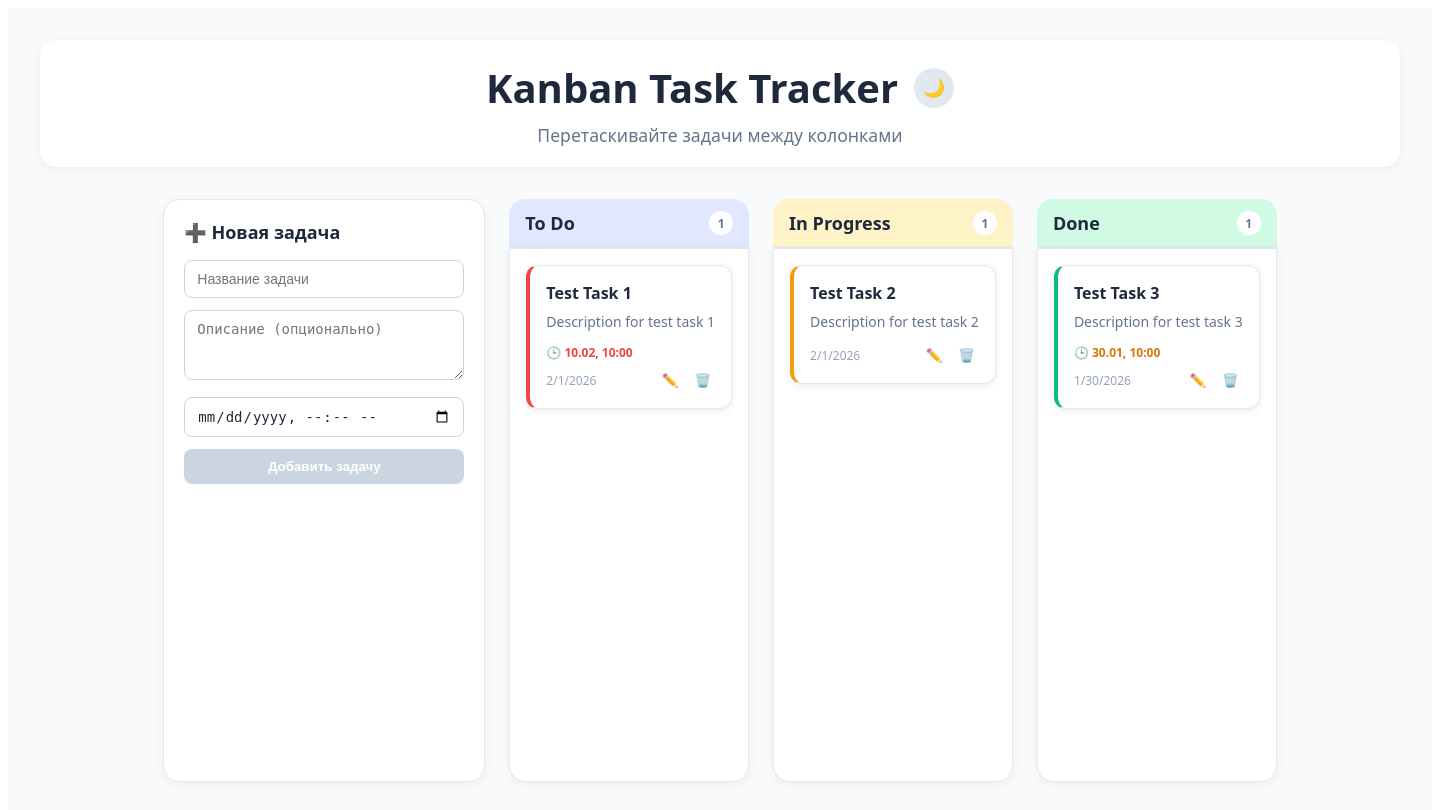
Test case: KanbanBoard › updates task when save button is clicked
expect the element with test id "task-card-1" is shown: met, box [526,265,732,409]
Click the button with test id "task-edit-button-1".
click(670, 380)  # box [658,369,682,392]
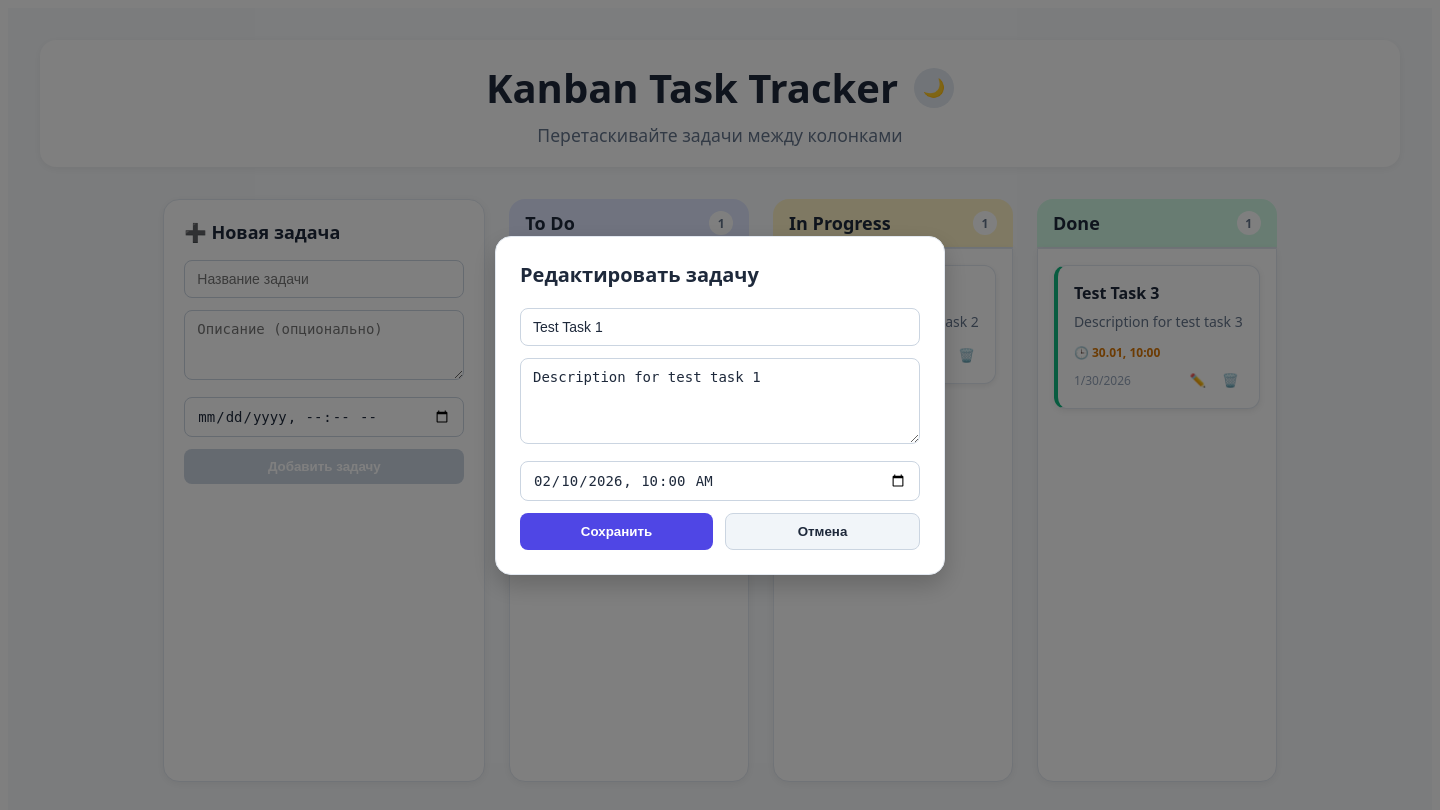
expect the dialog with test id "edit-task-modal" is shown: met
Replace the text in the field with test id "edit-task-title-input" with "Updated Task" at (720, 326), box [520,308,920,346]
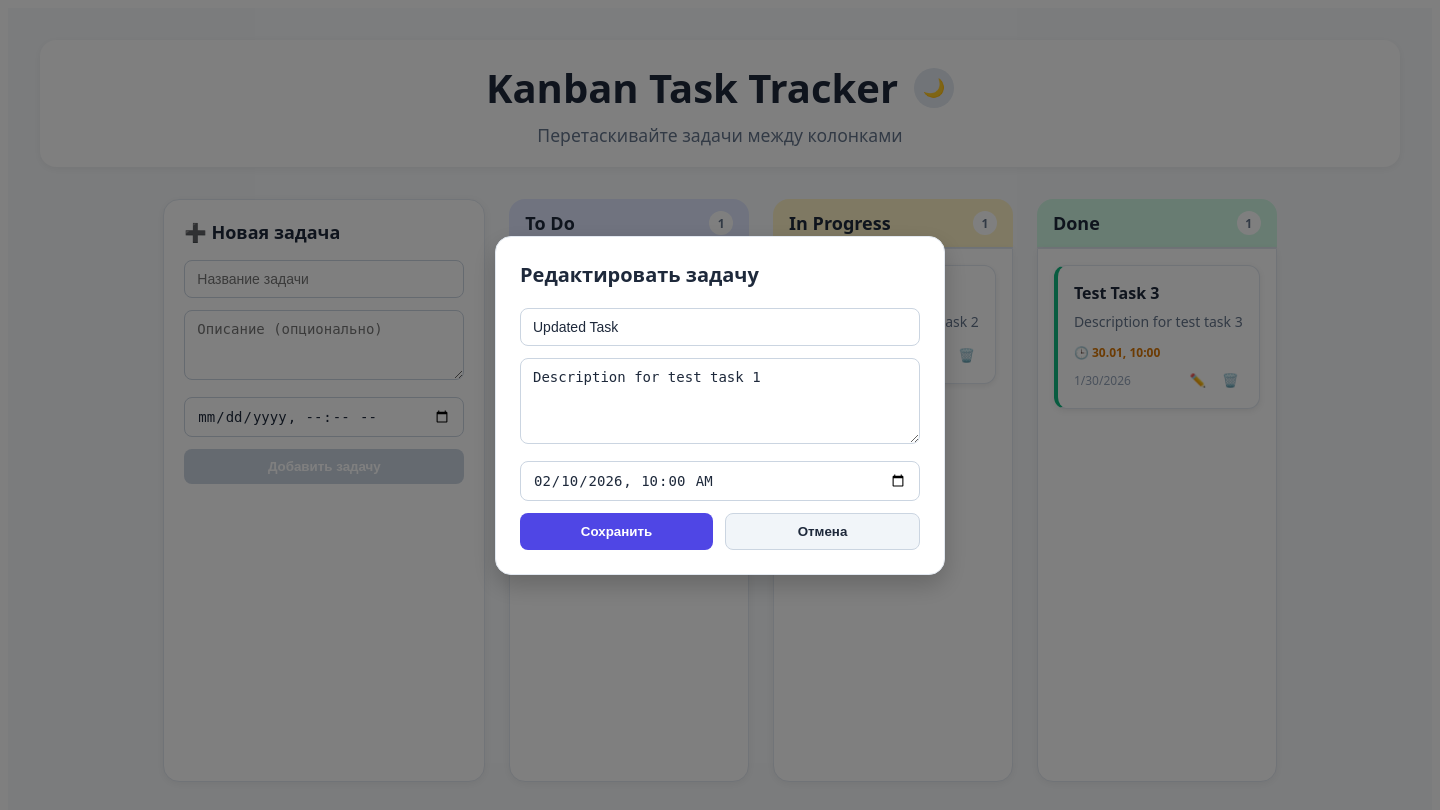
Click the button with test id "save-task-button".
click(616, 531)  # box [520,512,713,550]
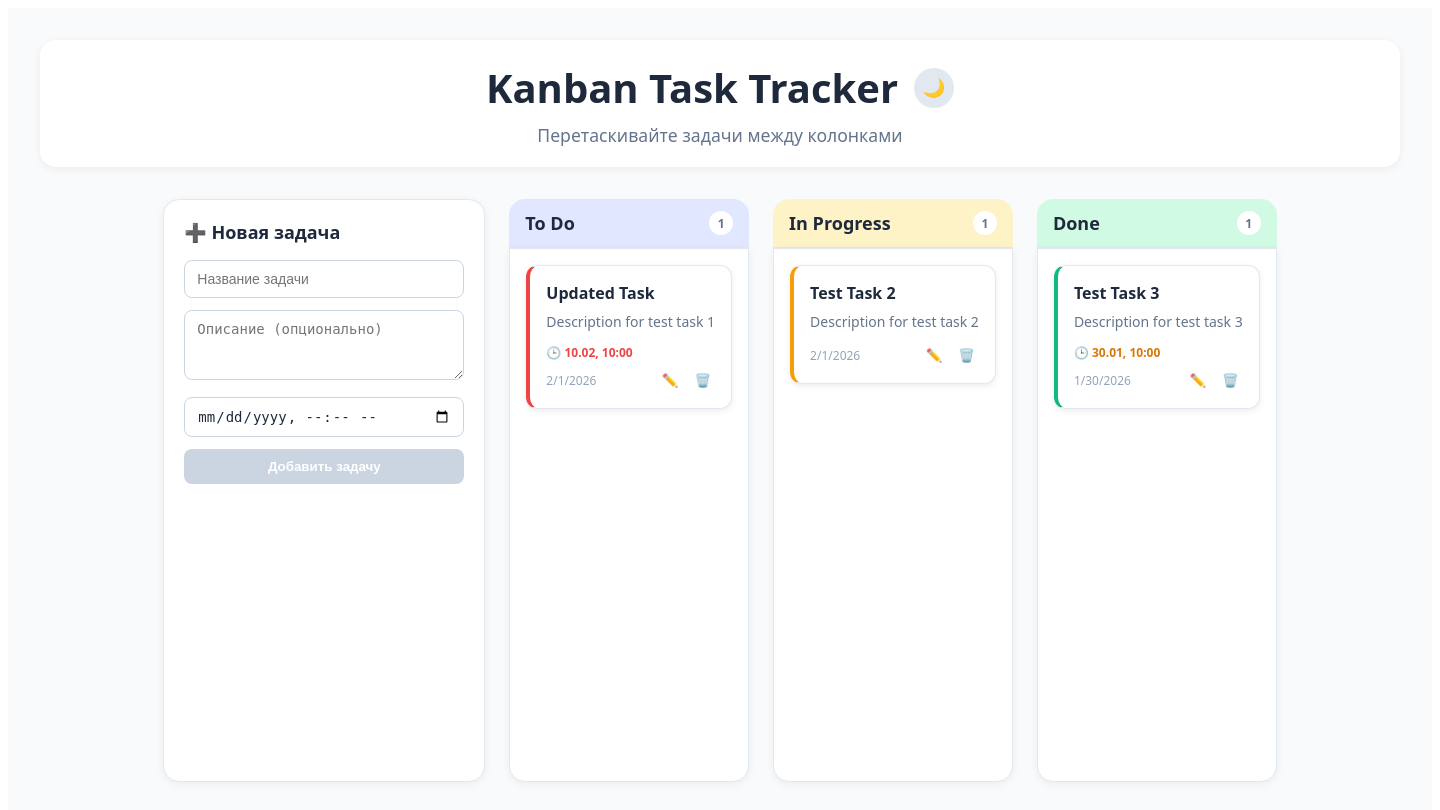
expect the dialog with test id "edit-task-modal" is gone: met
